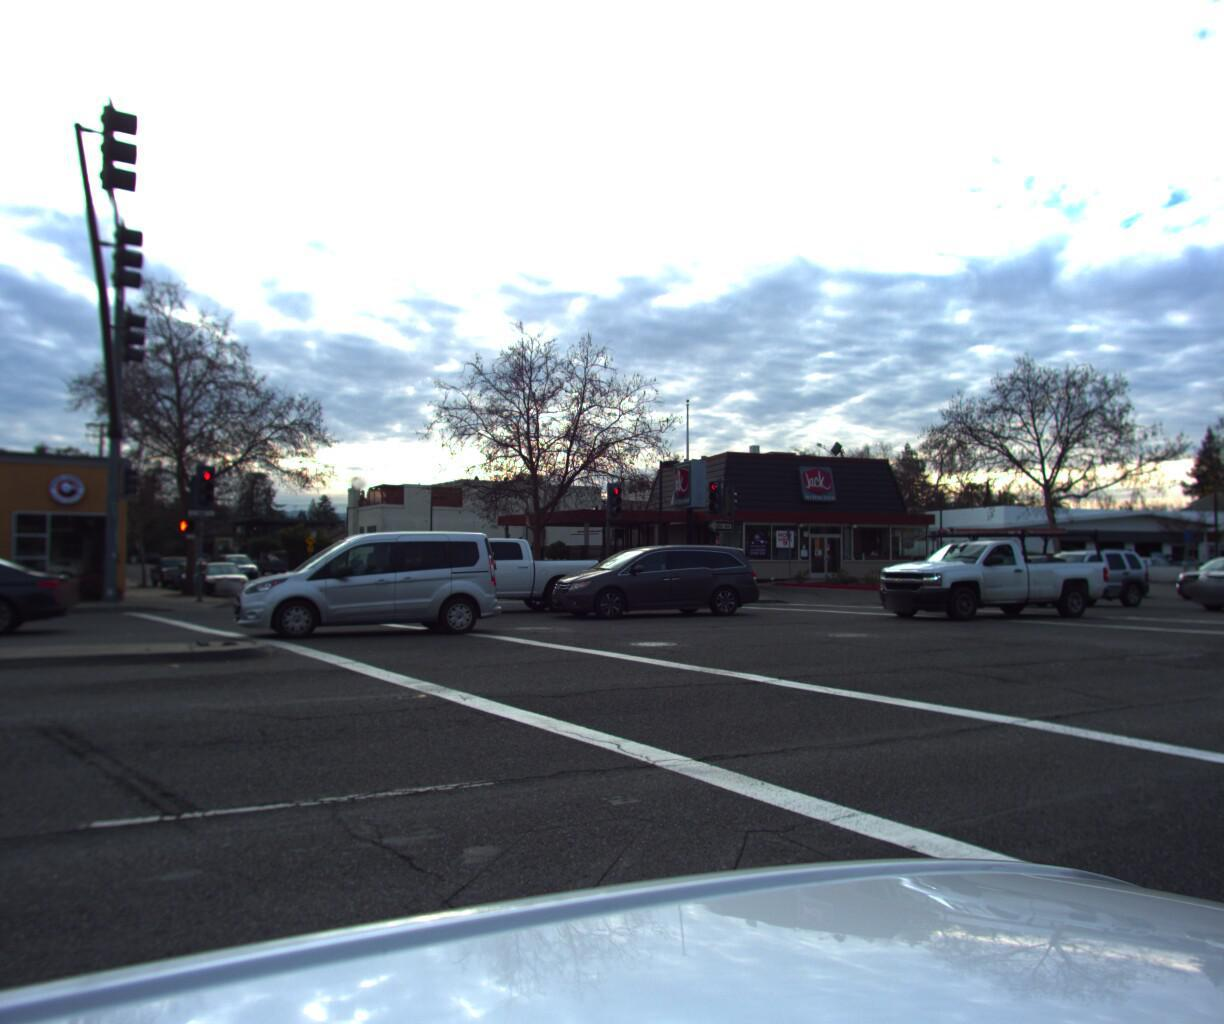car: (227, 526, 503, 643), (861, 510, 1113, 621), (392, 526, 638, 619), (533, 535, 766, 619), (1006, 543, 1165, 604), (0, 533, 74, 648), (1178, 543, 1224, 611), (189, 559, 258, 601), (1209, 527, 1224, 695), (1169, 551, 1224, 597), (167, 558, 227, 595), (1104, 552, 1179, 581), (150, 557, 202, 590), (247, 551, 294, 575)
